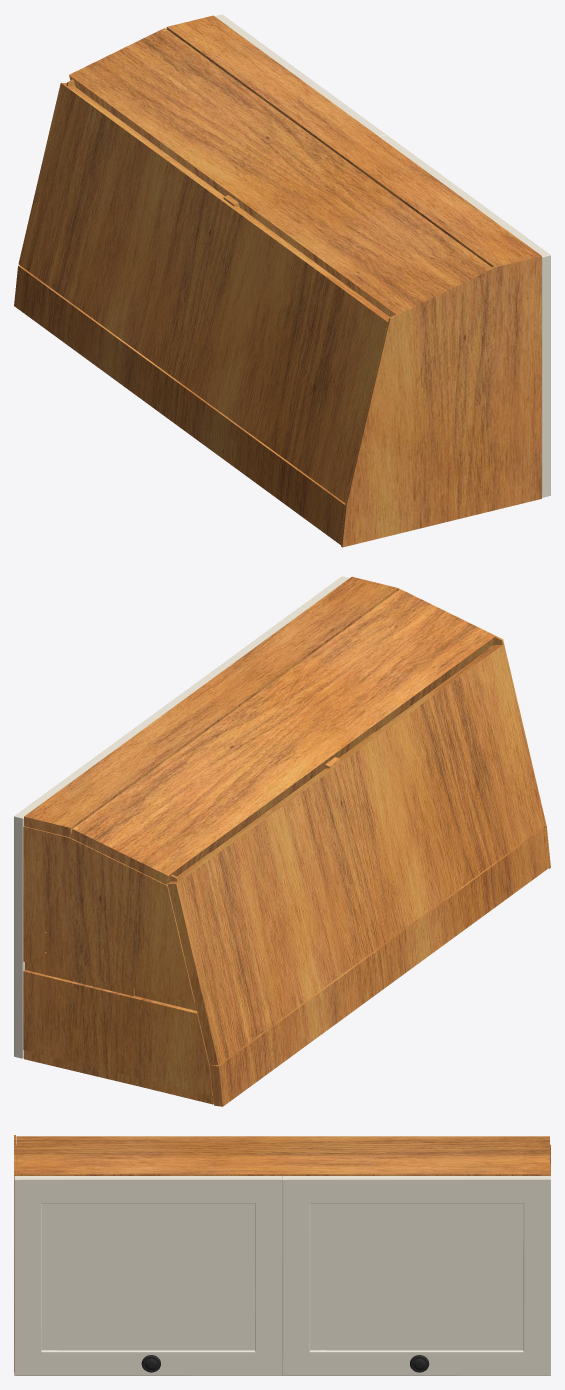
File: upper-cabinet-three.glb
The picture shows the model from 3 angles, top to bottom: view 1: azimuth 30°, elevation 25°; view 2: azimuth 150°, elevation 25°; view 3: azimuth 270°, elevation 25°; orthographic projection. The views are drawn at different scales.
Visible parts, largest first — view 1: Document.007; view 2: Document.007; view 3: Document.007.
Boxes of the visible parts, left/top/right/bottom form: Document.007: left=14, top=14, right=550, bottom=547; Document.007: left=14, top=576, right=550, bottom=1106; Document.007: left=14, top=1135, right=550, bottom=1375.
Size of the model in its own units: 0.3519 by 0.384 by 0.9427.
Materials: 3 (1 with a texture image).
